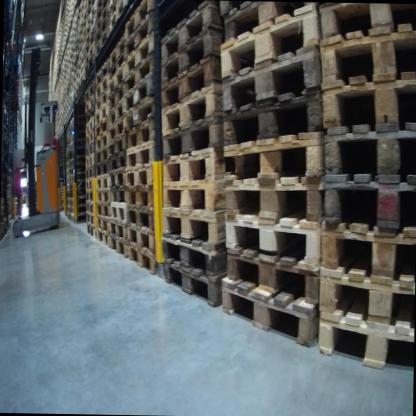forklift: (13, 41, 68, 248)
pallet: (215, 1, 319, 83), (216, 277, 322, 351), (219, 45, 322, 119), (314, 218, 415, 292), (222, 86, 325, 154), (321, 301, 413, 375), (221, 210, 320, 277), (321, 117, 416, 184), (223, 246, 319, 310), (323, 72, 413, 140), (322, 29, 416, 91), (220, 130, 328, 182), (320, 176, 415, 233), (320, 270, 414, 325), (221, 179, 325, 221), (155, 1, 221, 66), (221, 3, 301, 49), (317, 6, 416, 42), (160, 60, 227, 112), (162, 30, 221, 89), (158, 202, 231, 248), (163, 254, 227, 305), (161, 226, 226, 275), (160, 85, 225, 133), (158, 144, 222, 185), (159, 116, 223, 156), (159, 179, 226, 214), (119, 35, 160, 80), (117, 57, 158, 100), (119, 74, 155, 116), (120, 12, 153, 55), (123, 139, 156, 177), (123, 0, 155, 37), (121, 101, 155, 134), (126, 243, 159, 275), (125, 120, 158, 147), (123, 162, 154, 186), (129, 227, 157, 253), (126, 204, 153, 229), (128, 182, 158, 204), (104, 168, 130, 191), (106, 99, 125, 127), (94, 128, 113, 156), (107, 40, 124, 71), (109, 150, 130, 174), (107, 64, 124, 93), (109, 233, 131, 255), (108, 220, 130, 242), (107, 84, 124, 112), (109, 185, 131, 206), (105, 136, 127, 157), (94, 30, 110, 58), (107, 119, 124, 144), (108, 204, 129, 224), (107, 58, 127, 79), (95, 60, 110, 88), (110, 2, 126, 26), (94, 117, 110, 140), (94, 90, 110, 112), (95, 101, 110, 124), (95, 75, 109, 97), (94, 160, 111, 177), (84, 53, 96, 77), (95, 201, 110, 220), (97, 12, 109, 35), (95, 146, 111, 163), (84, 78, 95, 101), (83, 44, 94, 66), (96, 7, 109, 25), (84, 142, 96, 161), (94, 173, 109, 188), (83, 119, 96, 136), (87, 1, 97, 23), (85, 93, 95, 114), (84, 222, 96, 239), (110, 0, 122, 17), (83, 131, 93, 151), (86, 35, 97, 53), (85, 17, 96, 35), (82, 156, 95, 171), (85, 27, 96, 44), (97, 187, 109, 202), (96, 229, 106, 247), (85, 202, 96, 218), (84, 190, 98, 202), (84, 166, 96, 179), (97, 216, 108, 230), (98, 0, 109, 14), (84, 212, 97, 223), (86, 110, 96, 124), (84, 179, 96, 190), (96, 0, 102, 7)
